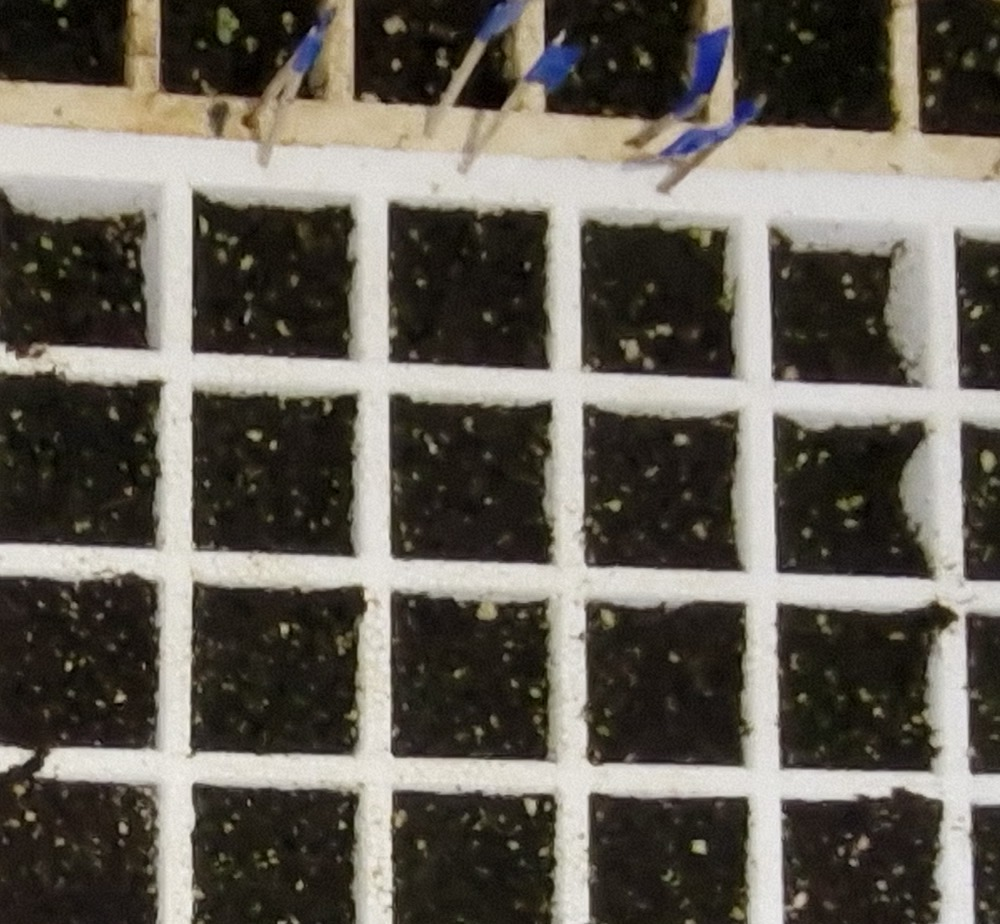Folha: (837, 496, 850, 511), (850, 495, 863, 507)
Germinacao: (836, 495, 865, 511)
